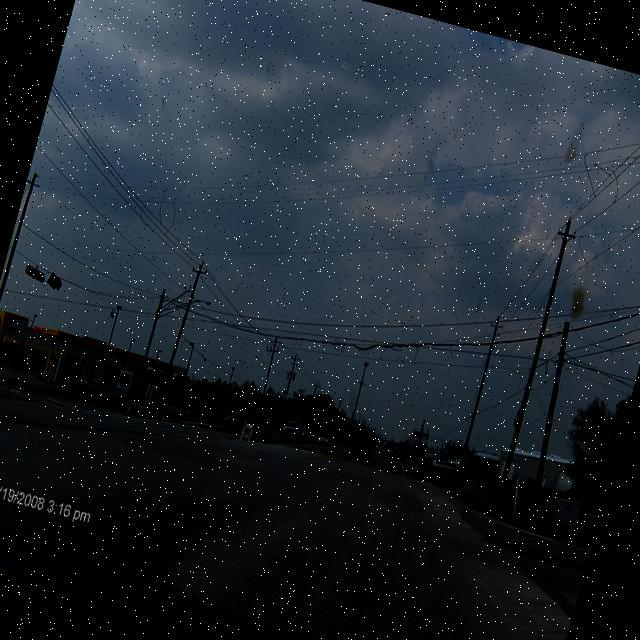fire_hydrant: (58, 388, 68, 400)
